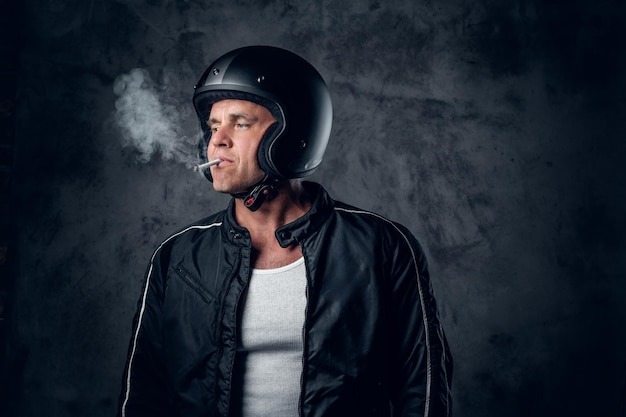cigarette: (197, 157, 222, 171)
